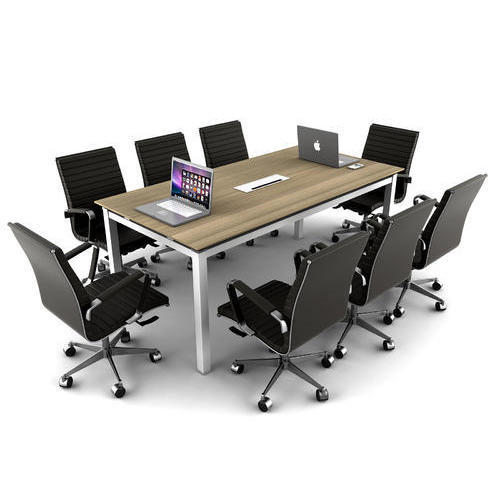conference_table: (97, 143, 405, 374)
